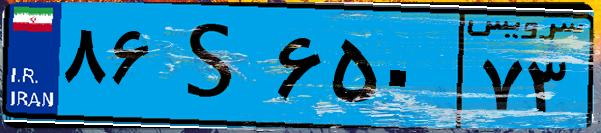0: (385, 28, 445, 110)
3: (525, 38, 570, 115)
5: (330, 28, 385, 110)
6: (270, 28, 330, 110), (110, 28, 158, 98)
7: (475, 38, 525, 113)
8: (57, 26, 110, 100)
S: (158, 12, 270, 120)
